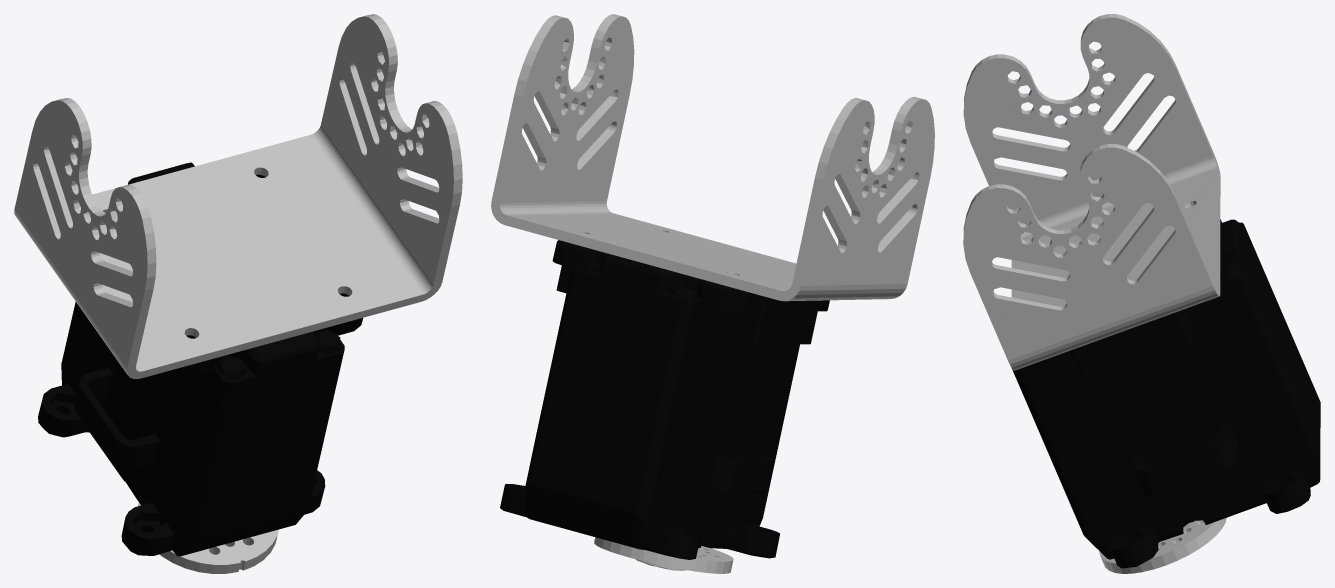
Rendered from mini2_wrist_pitch_module.dae.
3 views of the same model, side by side, from view 1: azimuth 30°, elevation 25°; view 2: azimuth 150°, elevation 25°; view 3: azimuth 270°, elevation 25° (orthographic). The views are drawn at different scales.
Visible parts, largest first — view 1: node; view 2: node; view 3: node.
Boxes of the visible parts, x1,y1,x2,y2 form: node: (14,14,462,573); node: (491,14,934,573); node: (963,14,1320,573).
Bounding box in the file's own units: 5.45 × 8.38 × 5.66.
Materials: 1 (1 with a texture image).
